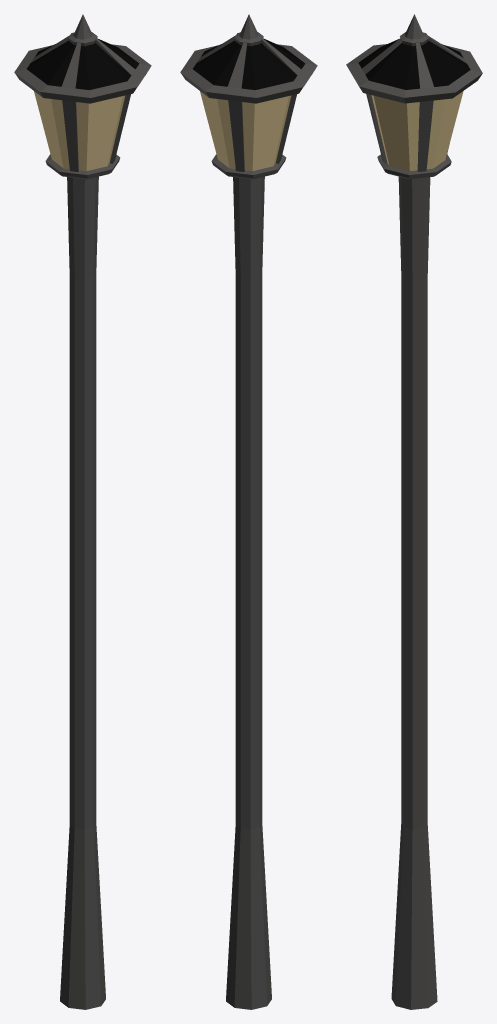
Rendered from street_lamp.fbx.
The picture shows the model from 3 angles, left to right: view 1: azimuth 30°, elevation 25°; view 2: azimuth 210°, elevation 25°; view 3: azimuth 330°, elevation 25°; orthographic projection.
Parts seen in each view (by area): view 1: Street_Lamp; view 2: Street_Lamp; view 3: Street_Lamp.
Boxes of the visible parts, <box> form: Street_Lamp: <box>14,14,151,1009</box>; Street_Lamp: <box>180,14,317,1009</box>; Street_Lamp: <box>346,14,482,1009</box>.
Size of the model in its own units: 27.79 by 235 by 27.79.
